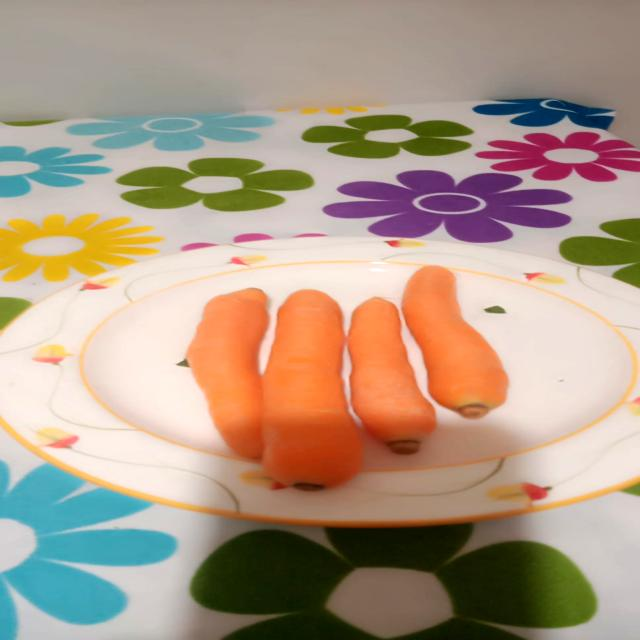carrot: (222, 272, 396, 501), (137, 273, 295, 462), (383, 257, 558, 427), (322, 286, 478, 458)
